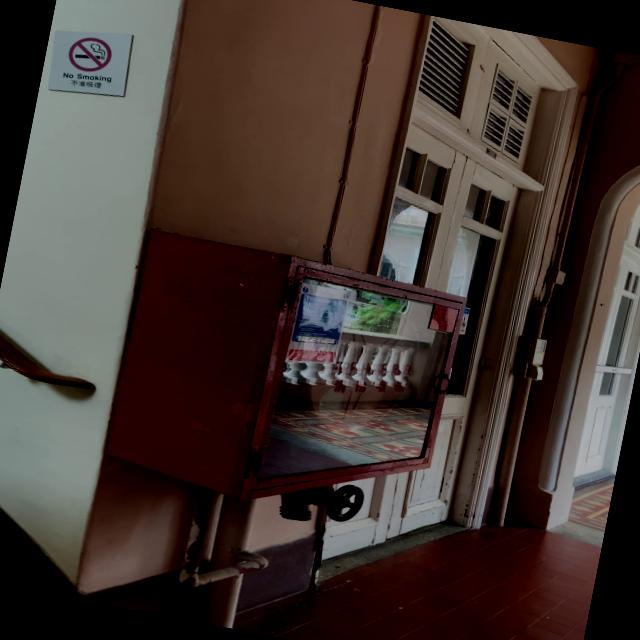room201: (484, 147, 498, 160)
